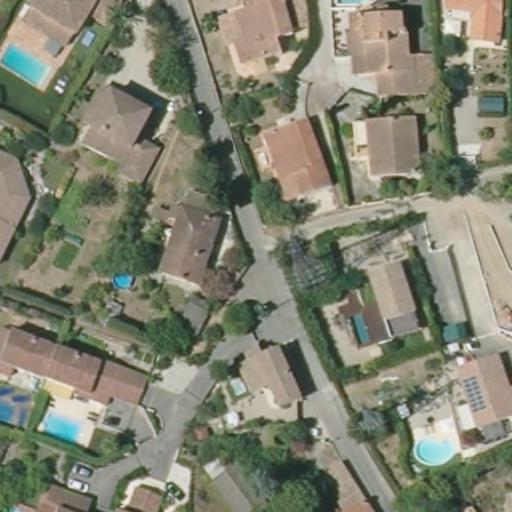pool: (0, 41, 52, 88), (39, 406, 86, 450), (413, 432, 458, 467), (0, 379, 30, 429), (98, 261, 140, 295), (322, 0, 372, 11)
